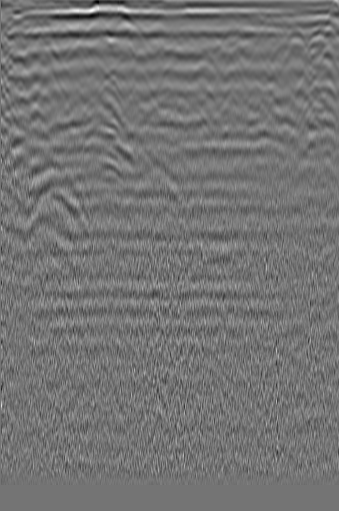가스: (89, 159, 121, 185)
오수: (283, 23, 303, 43)
우수: (129, 19, 149, 39)
